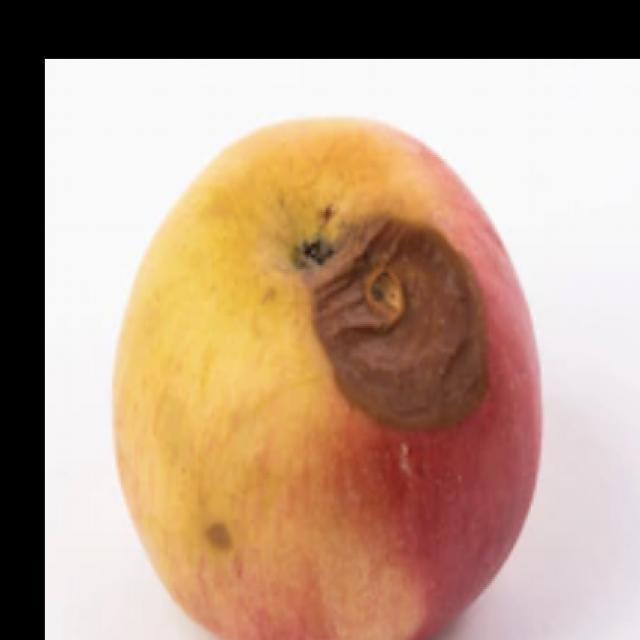Rotten: (123, 135, 587, 640)
